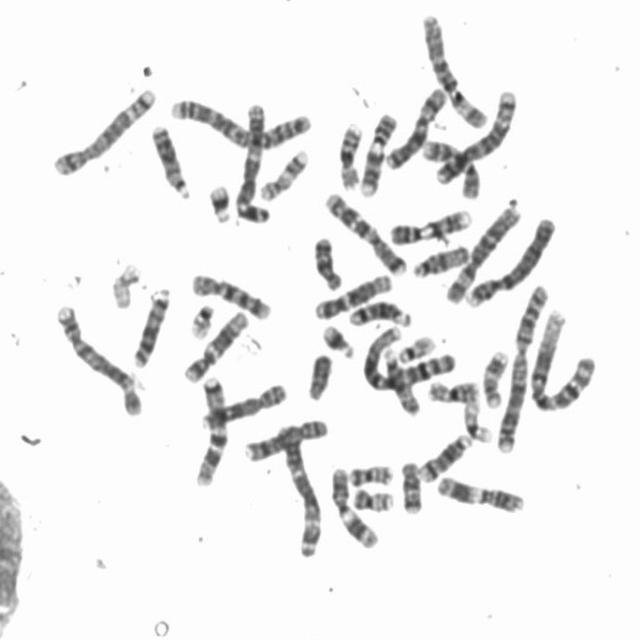A1: (527, 307, 597, 410), (358, 326, 458, 392)
A2: (496, 285, 550, 453), (168, 96, 312, 150)
A3: (282, 424, 326, 562), (235, 102, 273, 222)
B4: (54, 304, 144, 418), (467, 217, 556, 308)
B5: (52, 88, 154, 177), (434, 88, 518, 187)
C10: (192, 274, 272, 320), (423, 138, 481, 199)
C11: (329, 466, 379, 551), (438, 475, 524, 515)
C12: (182, 311, 249, 385), (315, 273, 392, 321)
C6: (420, 11, 489, 130), (446, 205, 522, 306)
C7: (321, 192, 406, 277), (193, 376, 229, 489)
C8: (200, 382, 287, 430), (244, 419, 328, 463)
C9: (388, 208, 477, 246), (359, 114, 397, 197)
D13: (132, 287, 174, 368), (148, 124, 191, 200)
D14: (419, 434, 473, 484), (346, 300, 413, 328)
D15: (383, 348, 422, 416), (409, 245, 470, 279)
E16: (338, 124, 364, 193), (428, 380, 481, 405)
E17: (258, 147, 310, 202), (481, 348, 509, 412)
E18: (314, 238, 344, 292), (399, 460, 423, 515)
F19: (110, 259, 144, 312), (461, 399, 494, 445)
F20: (349, 464, 395, 489), (352, 490, 398, 512)
G21: (319, 323, 356, 360), (207, 181, 231, 225)
G22: (398, 335, 436, 364), (189, 304, 215, 340)
X: (384, 87, 447, 173)
Y: (306, 354, 333, 401)
